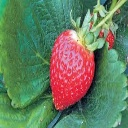strawberry: (49, 23, 98, 112)
